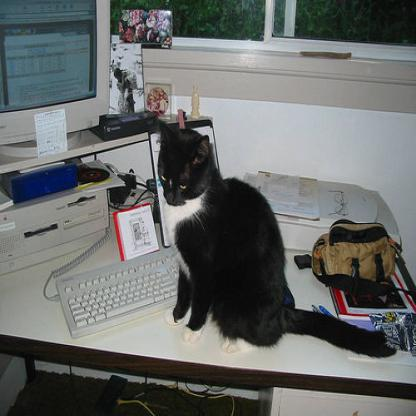cat: (157, 118, 398, 361)
tvmonitor: (0, 0, 112, 159)
